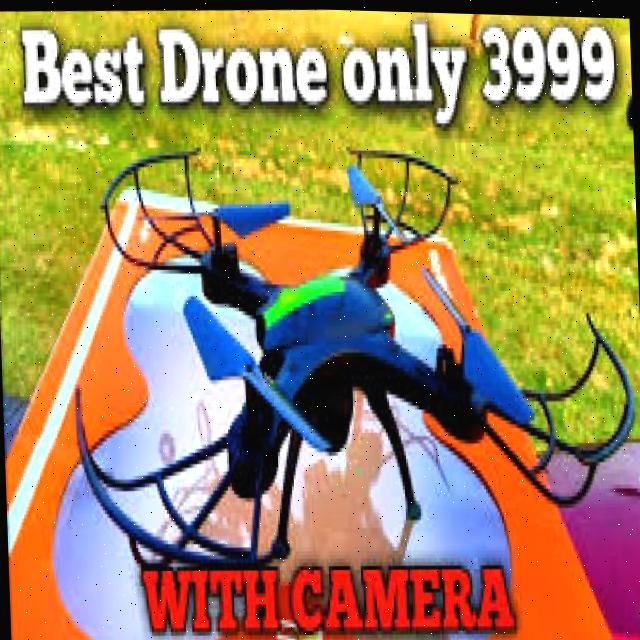drone: (42, 116, 640, 604)
